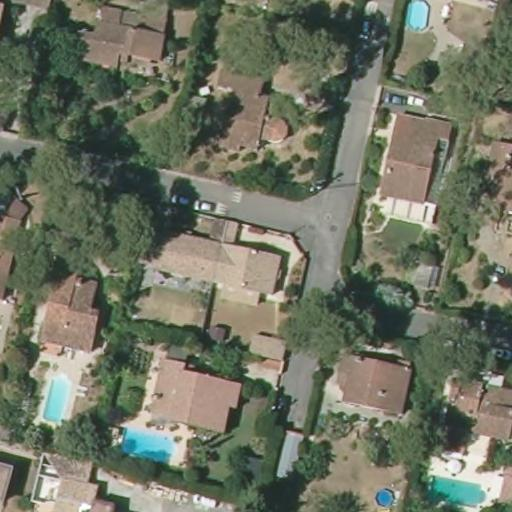pool: (112, 420, 184, 467), (420, 467, 492, 508), (37, 366, 74, 425), (402, 0, 432, 36), (369, 486, 398, 506)
